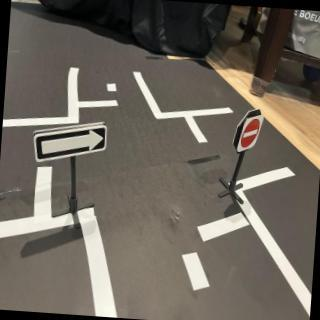sign_noentry: (236, 114, 265, 156)
sign_oneway_right: (33, 118, 109, 169)
